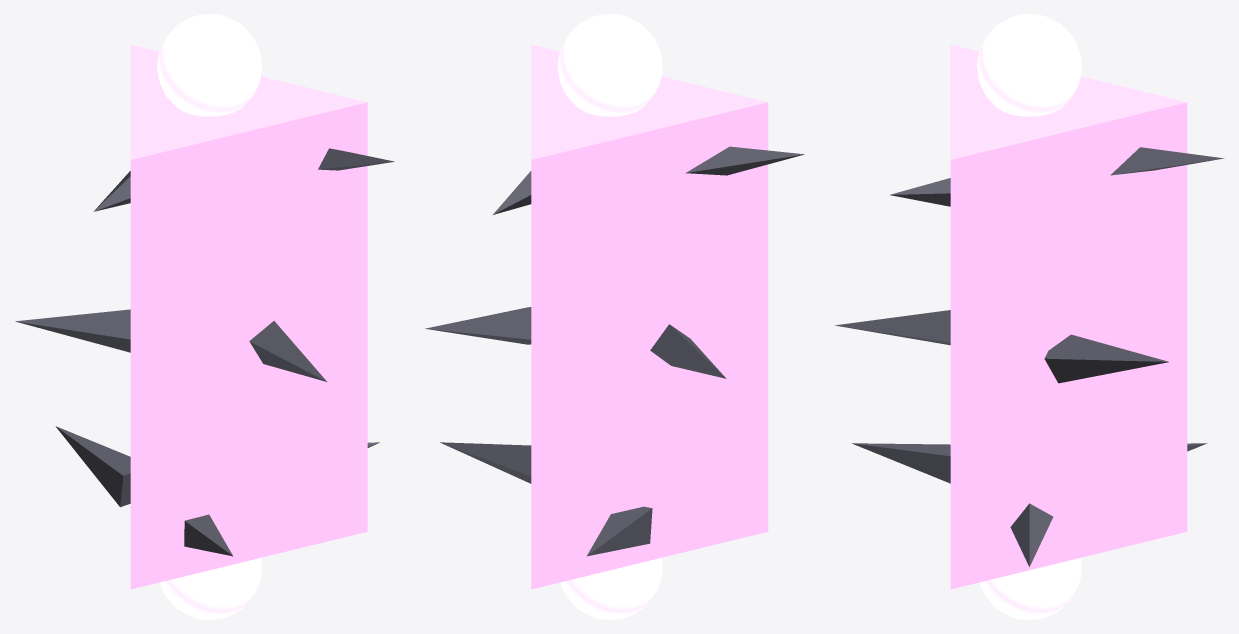
Rendered from relic_8.glb.
3 views of the same model, side by side, from view 1: azimuth 30°, elevation 25°; view 2: azimuth 150°, elevation 25°; view 3: azimuth 270°, elevation 25° (orthographic).
Visible parts, largest first — view 1: Cylinder; view 2: Cylinder; view 3: Cylinder.
Part boxes in pixels (x1,y1,x2,y2): Cylinder: (15, 14, 394, 619); Cylinder: (425, 14, 804, 619); Cylinder: (834, 14, 1224, 619).
Size of the model in its own units: 0.6308 by 1.1 by 0.6533.
